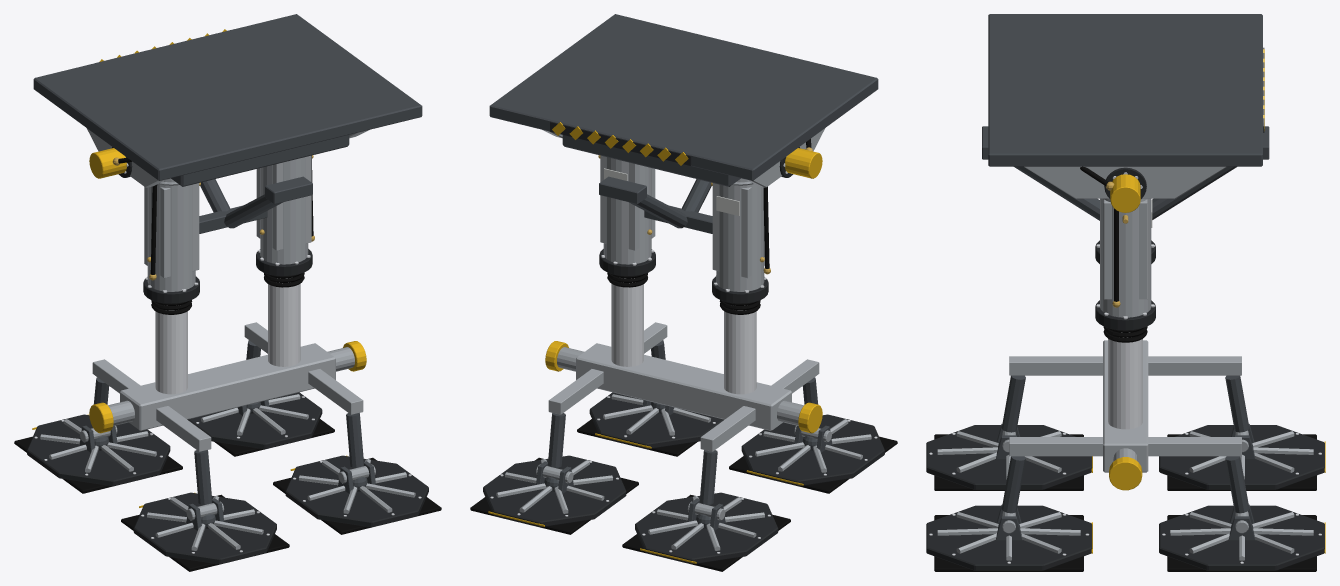
Rendered from landing_gear_xl.glb.
The picture shows the model from 3 angles, left to right: view 1: azimuth 30°, elevation 25°; view 2: azimuth 150°, elevation 25°; view 3: azimuth 270°, elevation 25°; orthographic projection. The views are drawn at different scales.
Visible parts, largest first — view 1: base, oleo, strut, foot_2, foot_4, foot_1, foot_3; view 2: base, oleo, strut, foot_1, foot_3, foot_2, foot_4; view 3: base, oleo, foot_3, foot_4, strut, foot_1, foot_2.
Boxes of the visible parts, left/top/right/bottom form: base: left=33, top=14, right=422, bottom=187; oleo: left=89, top=272, right=366, bottom=451; strut: left=143, top=155, right=314, bottom=303; foot_2: left=121, top=450, right=289, bottom=571; foot_4: left=273, top=413, right=441, bottom=534; foot_1: left=14, top=377, right=182, bottom=493; foot_3: left=187, top=340, right=334, bottom=456; base: left=489, top=14, right=878, bottom=187; oleo: left=545, top=272, right=822, bottom=451; strut: left=598, top=155, right=770, bottom=303; foot_1: left=622, top=450, right=790, bottom=571; foot_3: left=470, top=413, right=638, bottom=534; foot_2: left=729, top=377, right=897, bottom=493; foot_4: left=577, top=340, right=724, bottom=456; base: left=988, top=14, right=1264, bottom=212; oleo: left=1009, top=326, right=1241, bottom=490; foot_3: left=1159, top=456, right=1325, bottom=571; foot_4: left=926, top=456, right=1092, bottom=571; strut: left=982, top=126, right=1269, bottom=330; foot_1: left=1159, top=375, right=1325, bottom=490; foot_2: left=926, top=375, right=1092, bottom=490.
Bounding box in the file's own units: 3 × 4.2 × 3.6.
